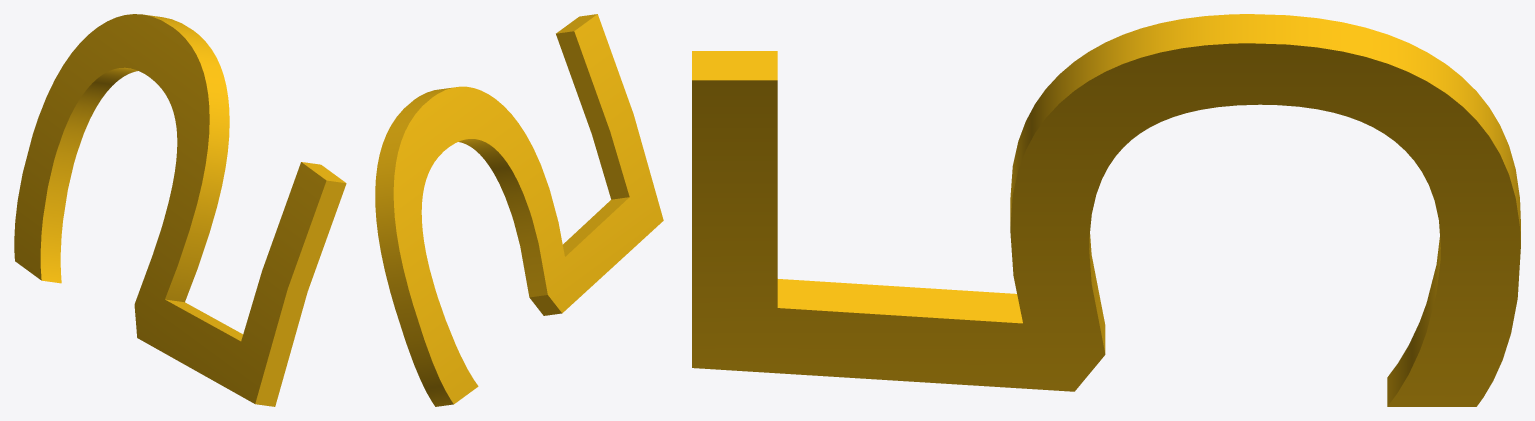
Rendered from Number_5.gltf.
3 renders of one model, left to right at view 1: azimuth 30°, elevation 25°; view 2: azimuth 150°, elevation 25°; view 3: azimuth 270°, elevation 25°, orthographic. The views are drawn at different scales.
Visible parts, largest first — view 1: Sub_6_Cell_1_1_Number_5; view 2: Sub_6_Cell_1_1_Number_5; view 3: Sub_6_Cell_1_1_Number_5.
Part boxes in pixels (x1,y1,x2,y2): Sub_6_Cell_1_1_Number_5: [14, 14, 346, 406]; Sub_6_Cell_1_1_Number_5: [375, 14, 663, 406]; Sub_6_Cell_1_1_Number_5: [692, 14, 1520, 406].
Size of the model in its own units: 0.00662 by 0.0153 by 0.0255.
